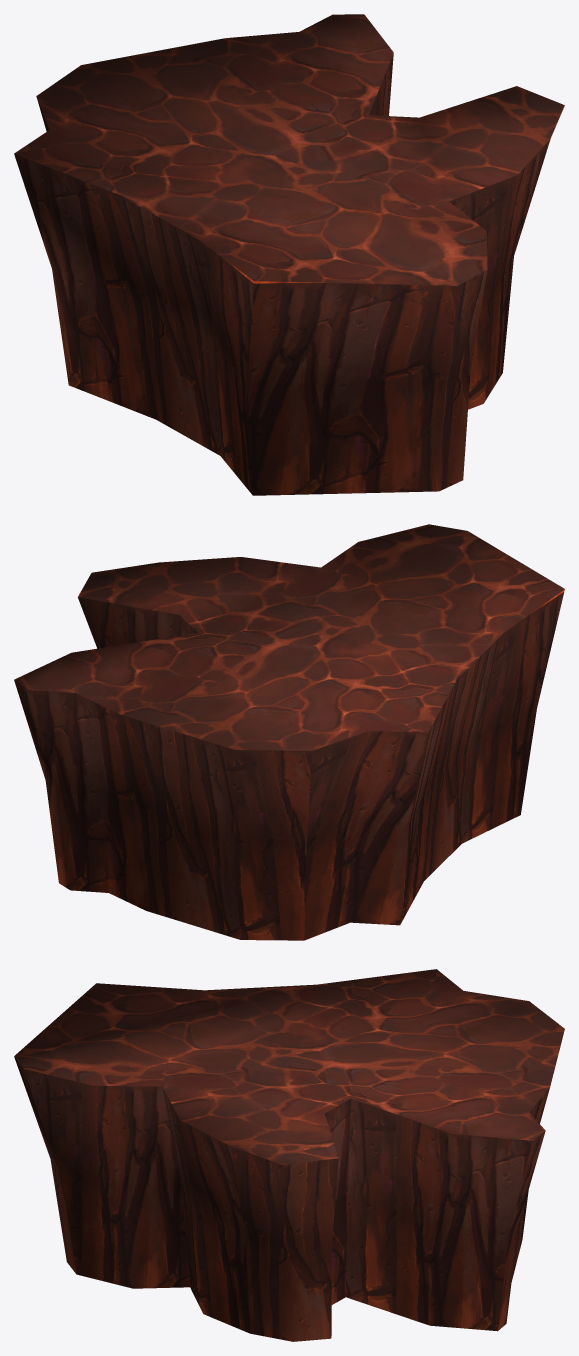
Rendered from terrain03.FBX.
3 renders of one model, top to bottom at view 1: azimuth 30°, elevation 25°; view 2: azimuth 150°, elevation 25°; view 3: azimuth 270°, elevation 25°, orthographic. The views are drawn at different scales.
Visible parts, largest first — view 1: terrain03; view 2: terrain03; view 3: terrain03.
Part boxes in pixels (x1,y1,x2,y2): terrain03: [14, 14, 564, 495]; terrain03: [14, 524, 564, 940]; terrain03: [14, 969, 564, 1341].
Bounding box in the file's own units: 1297 × 1540 × 640.
